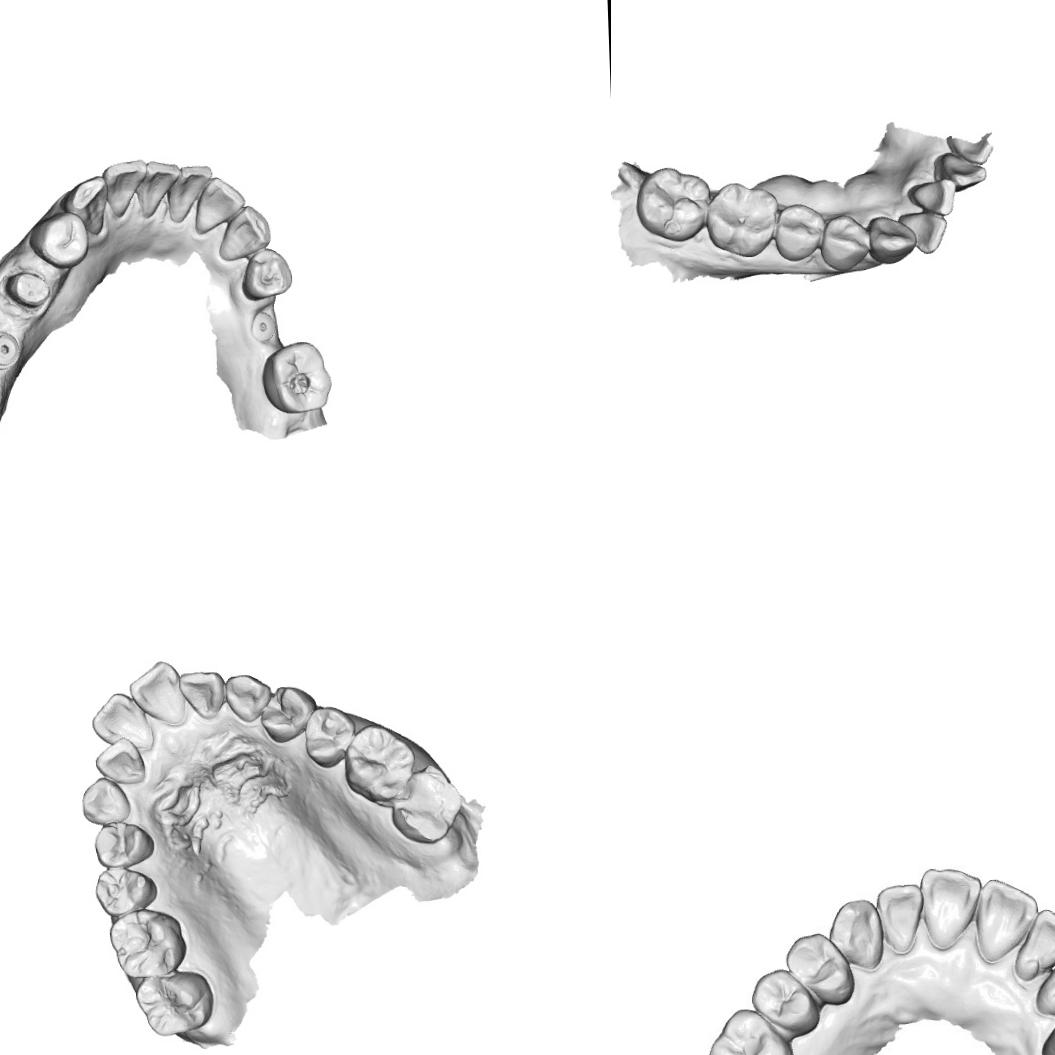canine: (828, 894, 888, 971), (216, 202, 275, 262), (61, 173, 110, 238), (223, 668, 273, 726), (866, 212, 918, 266), (78, 776, 133, 826), (1036, 950, 1055, 1018)
crown: (2, 267, 53, 311)
implant: (246, 310, 278, 344), (0, 329, 22, 371)
incisor: (968, 879, 1038, 963), (918, 865, 980, 953), (90, 690, 156, 755), (127, 658, 188, 728), (875, 882, 924, 958), (191, 174, 249, 238), (136, 158, 184, 224), (167, 162, 216, 226), (102, 156, 150, 221), (1013, 907, 1055, 980), (92, 736, 147, 787), (177, 669, 229, 722), (895, 210, 950, 256), (933, 151, 984, 195), (906, 177, 956, 218)
molar: (341, 720, 419, 805), (633, 164, 714, 245), (389, 762, 464, 846), (259, 337, 336, 418), (704, 180, 780, 260), (107, 907, 190, 980), (133, 970, 215, 1038), (701, 1006, 794, 1055)
premolar: (747, 964, 822, 1040), (781, 931, 854, 1008), (26, 209, 93, 269), (256, 683, 318, 745), (302, 704, 358, 769), (92, 865, 160, 917), (238, 245, 296, 304), (773, 202, 826, 264), (820, 213, 872, 272), (92, 822, 156, 868)
